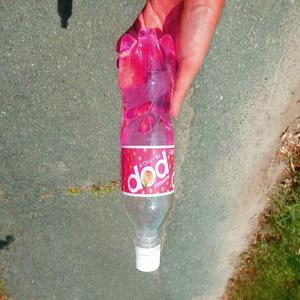Plastic: (116, 27, 176, 275)
